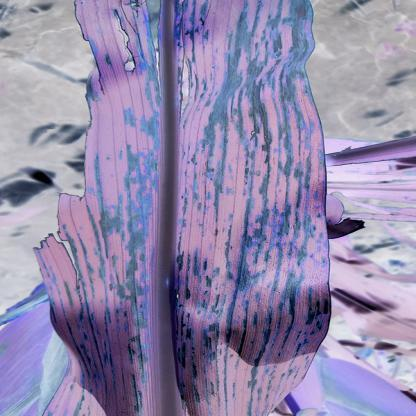Corn leaf blight: (19, 0, 344, 416)
